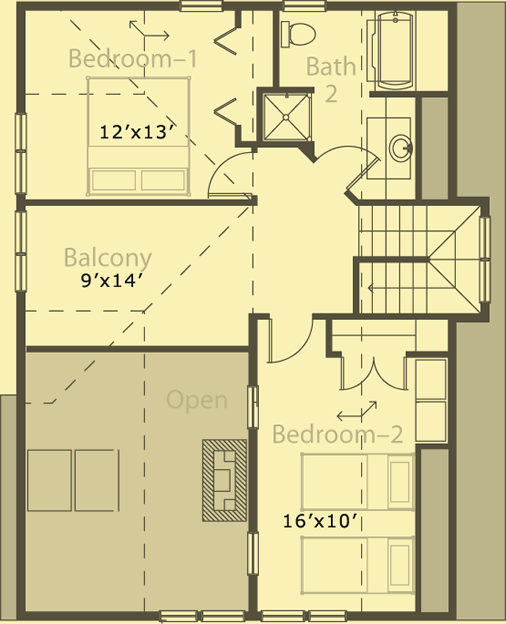bathroom has a shower and tub space with small and large sinks: (257, 5, 455, 203)
there is a double bed in bedroom: (20, 5, 256, 209)
this bedroom has twin beds and large sofa: (248, 314, 453, 616)
